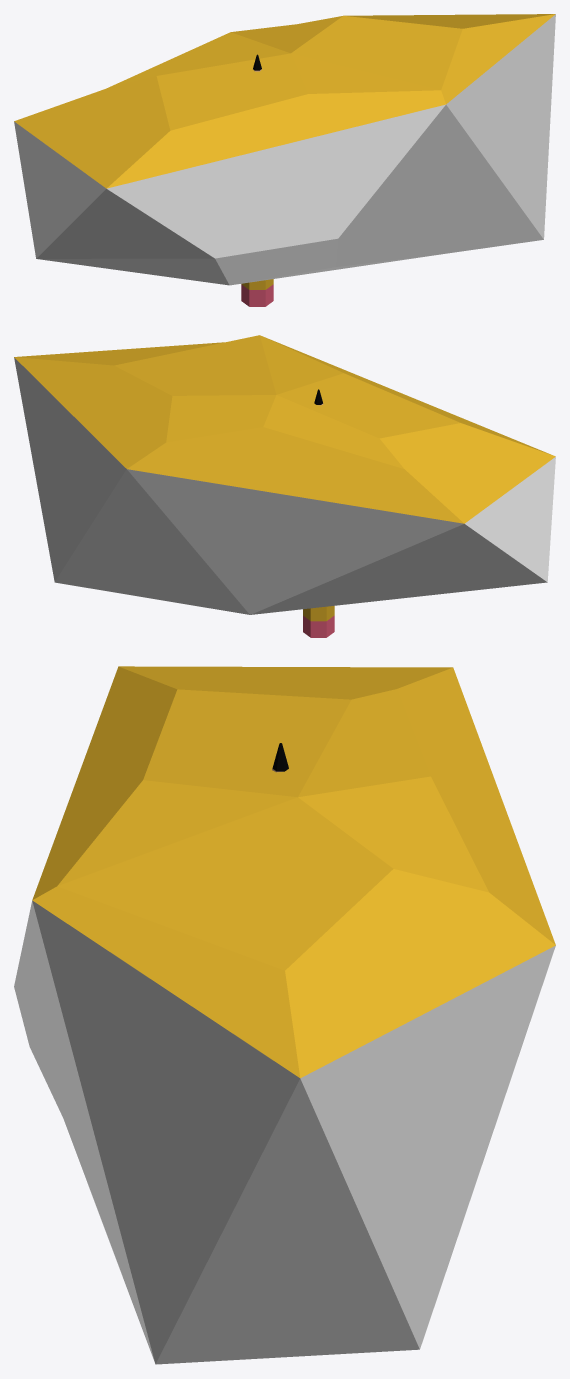
File: Floor2.fbx
The picture shows the model from 3 angles, top to bottom: view 1: azimuth 30°, elevation 25°; view 2: azimuth 150°, elevation 25°; view 3: azimuth 270°, elevation 25°; orthographic projection. The views are drawn at different scales.
Visible parts, largest first — view 1: Icosphere.001, Cylinder; view 2: Icosphere.001, Cylinder; view 3: Icosphere.001.
Part boxes in pixels (x1,y1,x2,y2): Icosphere.001: (14, 14, 555, 285); Cylinder: (241, 54, 273, 306); Icosphere.001: (14, 335, 555, 614); Cylinder: (303, 389, 334, 637); Icosphere.001: (14, 666, 555, 1364).
Size of the model in its own units: 3813 by 1689 by 1867.
